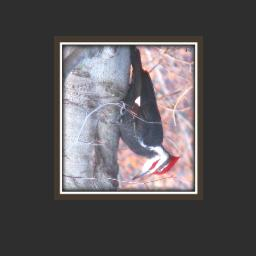Woodpecker: (110, 45, 181, 181)
